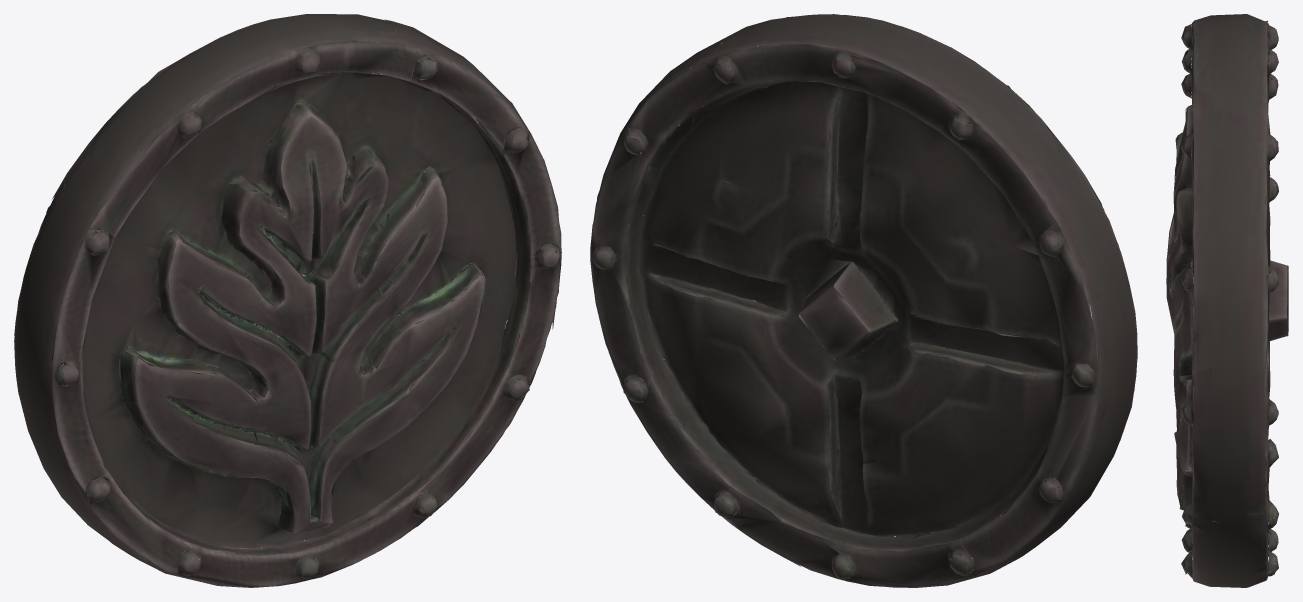
Rendered from piece_chest_leaf.glb.
3 renders of one model, left to right at view 1: azimuth 30°, elevation 25°; view 2: azimuth 150°, elevation 25°; view 3: azimuth 270°, elevation 25°, orthographic. The views are drawn at different scales.
Visible parts, largest first — view 1: trait_chest_leaf; view 2: trait_chest_leaf; view 3: trait_chest_leaf.
Boxes of the visible parts, x1,y1,x2,y2 form: trait_chest_leaf: (14, 14, 561, 587); trait_chest_leaf: (590, 14, 1137, 587); trait_chest_leaf: (1166, 14, 1288, 587).
Bounding box in the file's own units: 0.2102 × 0.2104 × 0.0447.
1 material, 1 textured.
